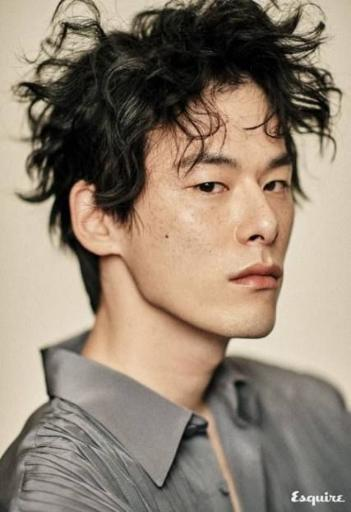left_eye: (262, 179, 290, 195)
left_lip_corner: (273, 271, 285, 289)
right_eye: (189, 180, 232, 198)
right_lip_corner: (225, 274, 239, 290)
